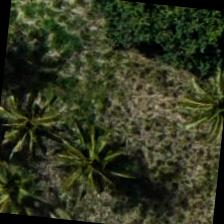Kelapa_Sawit: (46, 111, 146, 210), (0, 71, 81, 170), (172, 55, 223, 151), (0, 140, 56, 219)
